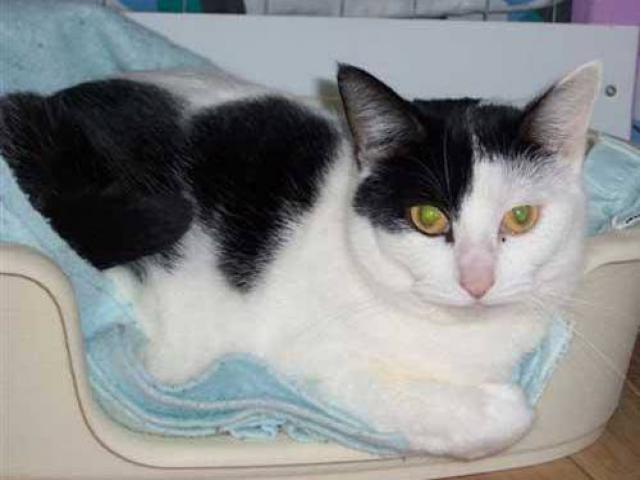cat: (2, 49, 614, 454)
